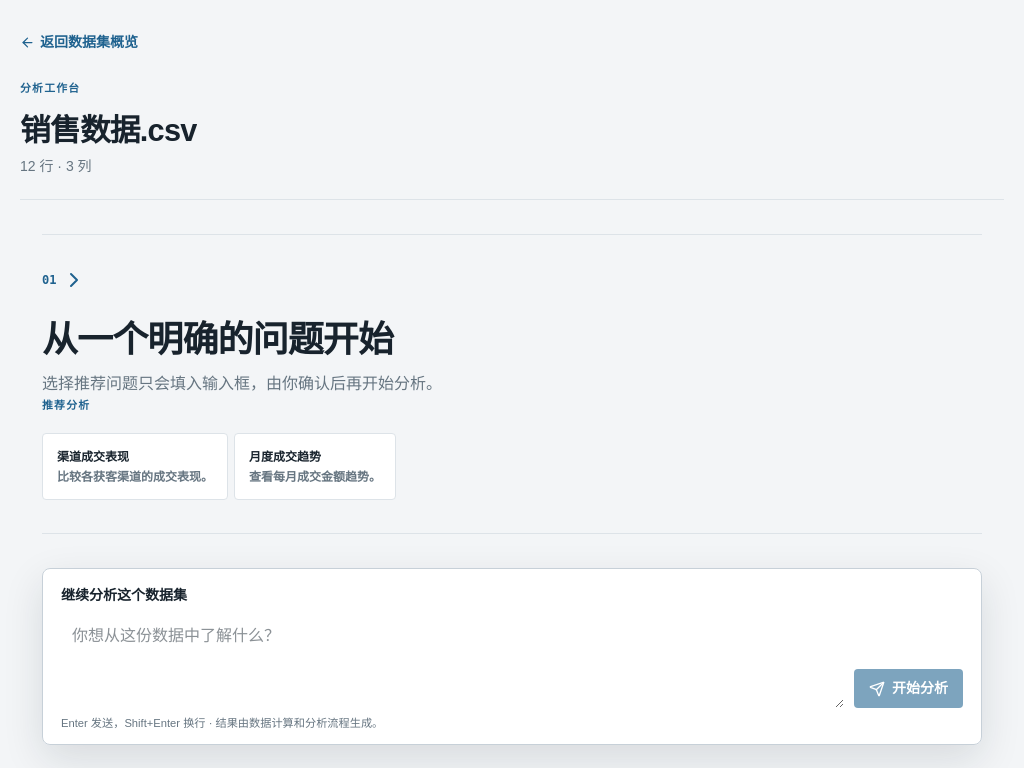
Test: AnalysisWorkbenchPage › fills a dataset recommendation without submitting it
What coordinates should you click on to do the following:
click the button with aria-label "使用渠道成交表现推荐"
I would click on:
 (135, 467)
Its box is [42, 433, 228, 500].
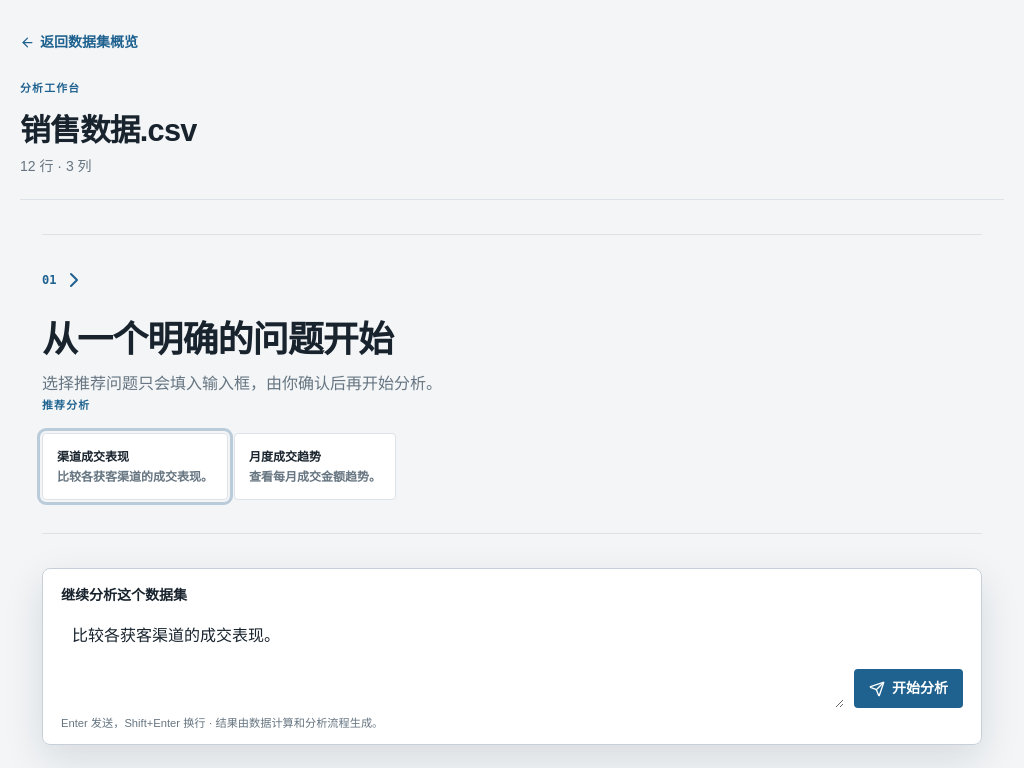
Now the text box named "输入分析问题" holds "比较各获客渠道的成交表现。", box [61, 614, 844, 708]
